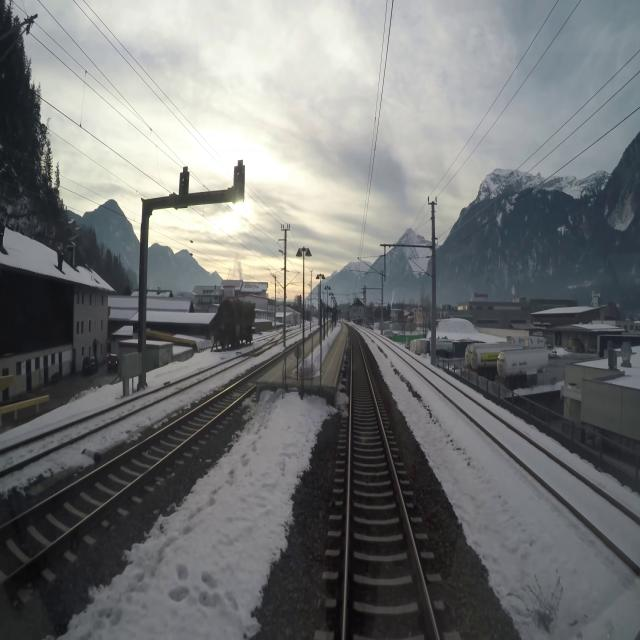rail-track: (0, 342, 302, 577), (396, 349, 640, 567), (346, 329, 436, 639), (0, 360, 235, 467)
